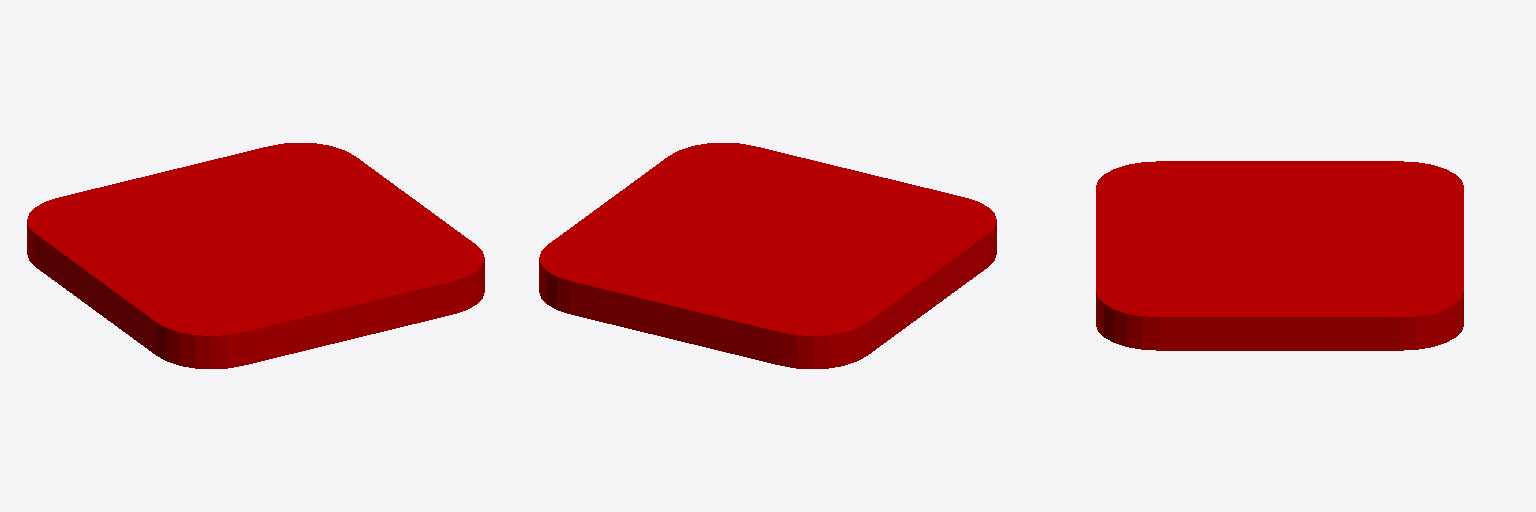
File: CaseTerre.obj
The picture shows the model from 3 angles: view 1: azimuth 30°, elevation 25°; view 2: azimuth 150°, elevation 25°; view 3: azimuth 270°, elevation 25°; orthographic projection.
Visible parts, largest first — view 1: Land; view 2: Land; view 3: Land.
Boxes of the visible parts, x1,y1,x2,y2 form: Land: [27, 143, 484, 368]; Land: [539, 143, 996, 368]; Land: [1096, 161, 1463, 350].
Bounding box in the file's own units: 2 × 0.2 × 2.